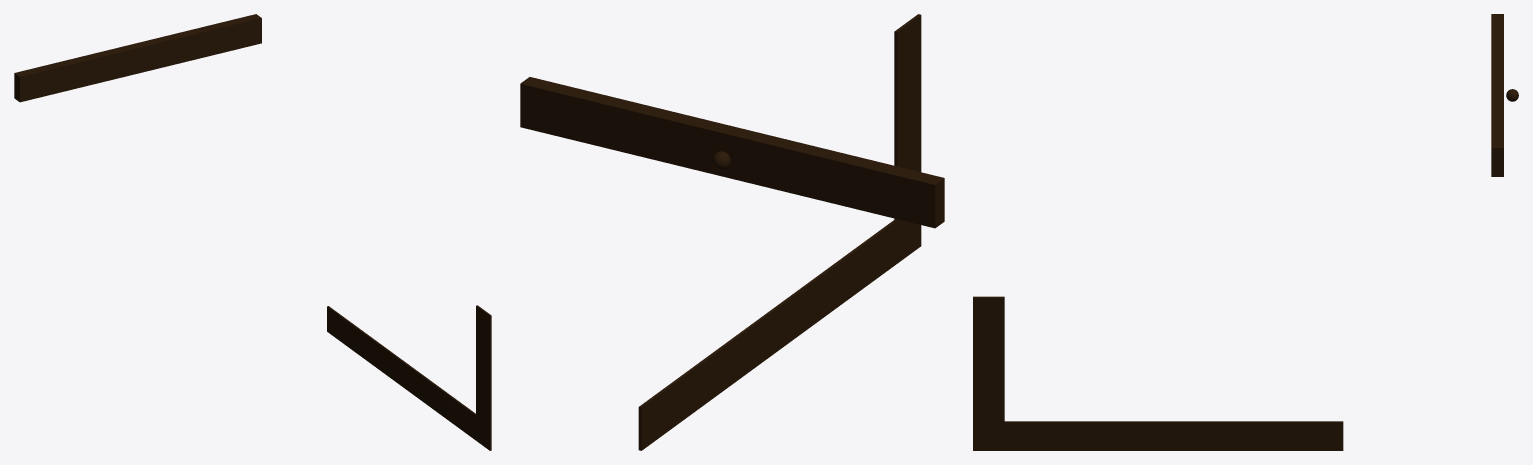
Rendered from fault_oil_streak.glb.
The picture shows the model from 3 angles, left to right: view 1: azimuth 30°, elevation 25°; view 2: azimuth 150°, elevation 25°; view 3: azimuth 270°, elevation 25°; orthographic projection. The views are drawn at different scales.
Parts seen in each view (by area): view 1: fault_oil_streak; view 2: fault_oil_streak; view 3: fault_oil_streak.
Boxes of the visible parts, left/top/right/bottom form: fault_oil_streak: left=14, top=14, right=491, bottom=450; fault_oil_streak: left=520, top=14, right=944, bottom=450; fault_oil_streak: left=973, top=14, right=1518, bottom=450.
Size of the model in its own units: 0.604 by 0.63 by 1.03.
